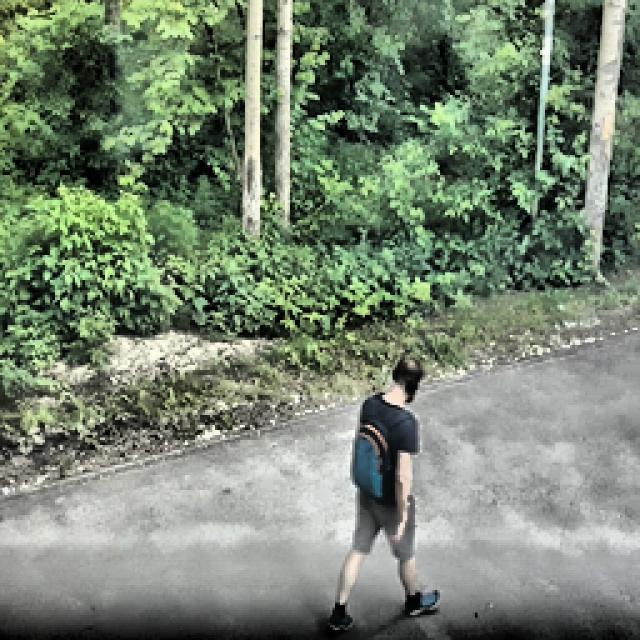Human: (318, 334, 457, 626)
